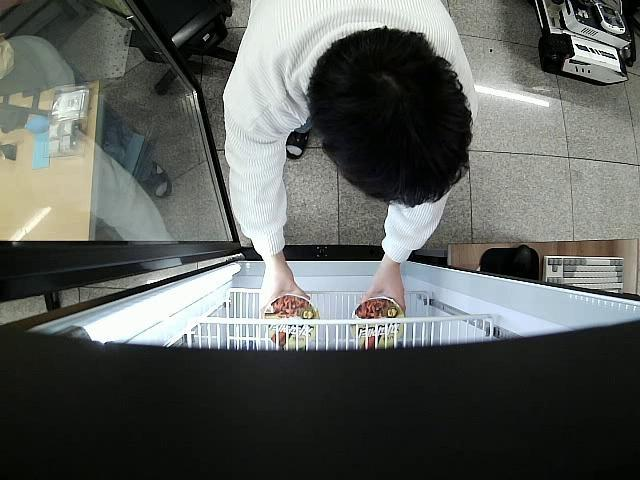03_chapagetti_L: (264, 295, 318, 350), (350, 300, 404, 349)
